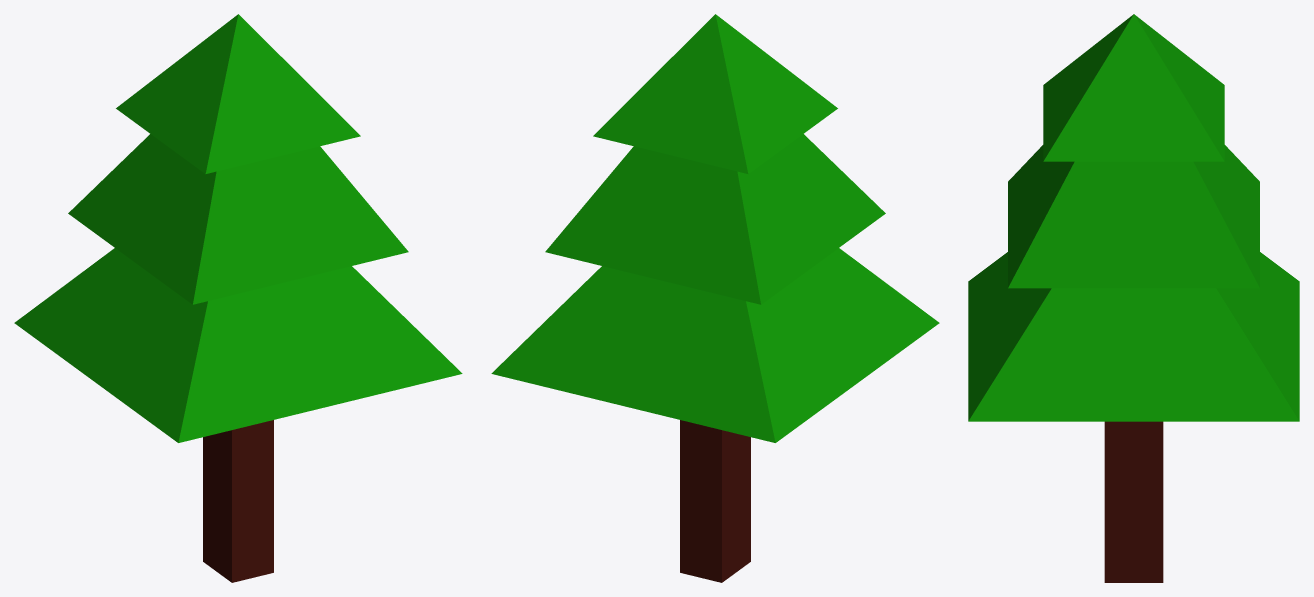
File: Arbol1.fbx
The picture shows the model from 3 angles, left to right: view 1: azimuth 30°, elevation 25°; view 2: azimuth 150°, elevation 25°; view 3: azimuth 270°, elevation 25°; orthographic projection.
Visible parts, largest first — view 1: Arbol1; view 2: Arbol1; view 3: Arbol1.
Boxes of the visible parts, x1,y1,x2,y2 form: Arbol1: (14,14,462,582); Arbol1: (491,14,939,582); Arbol1: (968,14,1299,582).
Bounding box in the file's own units: 1.36 × 2.53 × 1.36.
